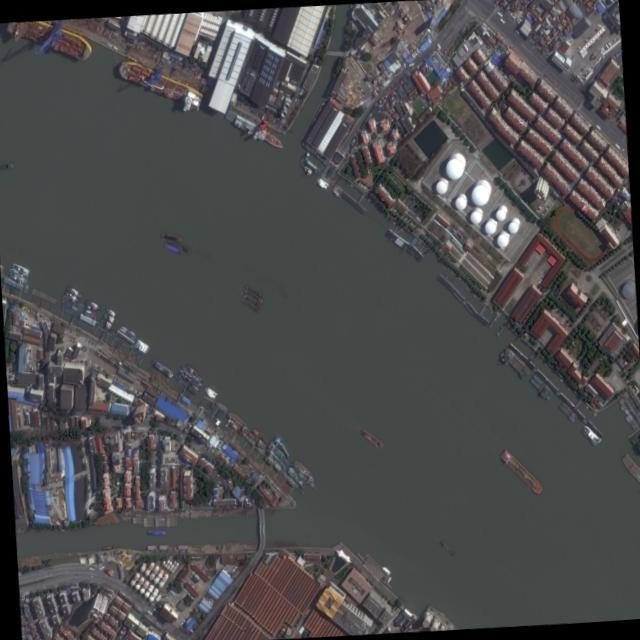ship: (117, 54, 203, 112), (6, 20, 95, 62), (225, 107, 285, 149), (500, 448, 544, 494), (504, 345, 531, 373), (500, 350, 527, 378), (177, 364, 204, 389), (226, 409, 250, 433), (272, 432, 294, 458), (293, 458, 316, 482), (359, 426, 383, 448), (268, 440, 290, 464), (529, 376, 551, 399), (265, 447, 287, 470), (150, 356, 174, 377), (532, 372, 554, 394), (286, 465, 307, 487), (582, 422, 601, 442), (166, 237, 189, 252), (248, 430, 266, 448), (243, 287, 263, 303), (580, 427, 597, 445), (560, 399, 577, 417), (298, 471, 316, 488), (242, 292, 261, 308), (239, 296, 259, 311), (244, 283, 264, 298), (11, 261, 32, 275), (251, 426, 268, 442), (558, 404, 575, 420), (9, 271, 28, 285), (8, 266, 28, 279), (163, 241, 183, 254), (99, 315, 116, 330), (439, 539, 455, 554), (102, 310, 119, 324), (84, 297, 101, 310), (618, 396, 630, 414), (315, 175, 330, 189), (160, 231, 181, 241), (203, 384, 217, 398), (66, 285, 82, 297), (64, 289, 80, 301), (625, 414, 637, 429), (300, 150, 310, 167), (627, 412, 639, 426), (185, 363, 199, 374), (302, 164, 314, 176), (331, 186, 342, 198), (105, 306, 117, 317), (85, 304, 98, 313), (381, 564, 391, 575), (0, 162, 13, 169), (148, 529, 165, 534), (102, 544, 117, 549), (223, 418, 230, 428), (211, 400, 218, 410), (128, 328, 136, 336), (210, 398, 217, 407), (120, 324, 128, 331), (118, 326, 126, 333), (155, 516, 166, 520), (155, 519, 166, 523), (155, 522, 166, 526), (143, 516, 154, 520), (386, 575, 392, 582), (166, 519, 178, 522), (143, 519, 155, 522), (166, 522, 177, 525), (143, 522, 154, 525), (132, 516, 143, 519), (166, 516, 176, 519), (133, 519, 143, 522)
storage-tank: (470, 183, 489, 205), (445, 156, 464, 178), (621, 281, 636, 298), (496, 232, 509, 246), (435, 179, 447, 193), (454, 196, 466, 209), (469, 209, 481, 222), (484, 220, 496, 233), (507, 220, 518, 232), (495, 208, 506, 219), (422, 618, 430, 627), (139, 586, 145, 592), (162, 574, 168, 580), (149, 572, 154, 579), (154, 576, 159, 582), (135, 583, 140, 589), (149, 594, 154, 600), (152, 589, 157, 595), (148, 563, 153, 569), (130, 579, 135, 585), (143, 582, 148, 587), (144, 591, 149, 596), (144, 569, 149, 574), (153, 567, 158, 572), (158, 581, 163, 586), (134, 574, 138, 579), (139, 578, 143, 583), (148, 586, 152, 591), (140, 565, 144, 570), (158, 571, 162, 576), (173, 565, 176, 569), (164, 563, 167, 566), (166, 565, 169, 568), (168, 567, 171, 570), (171, 569, 174, 572), (173, 560, 176, 563), (175, 562, 178, 565), (162, 561, 164, 564), (166, 560, 168, 563), (169, 562, 171, 565), (171, 564, 173, 567)
